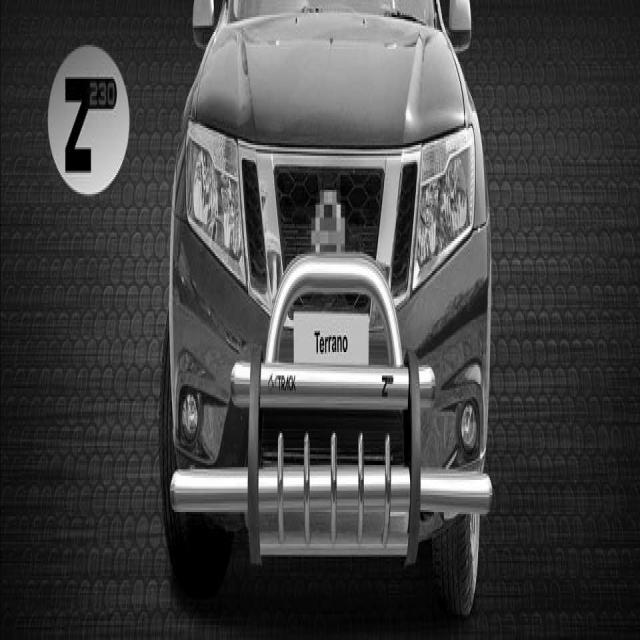car: (157, 0, 497, 631)
